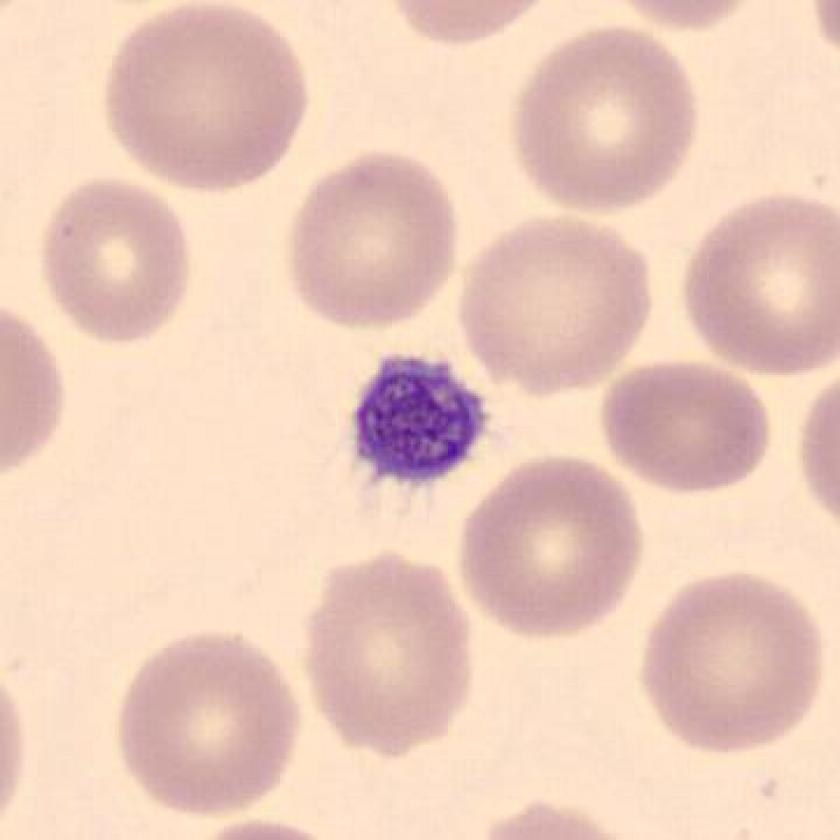platelets: (339, 346, 496, 498)
